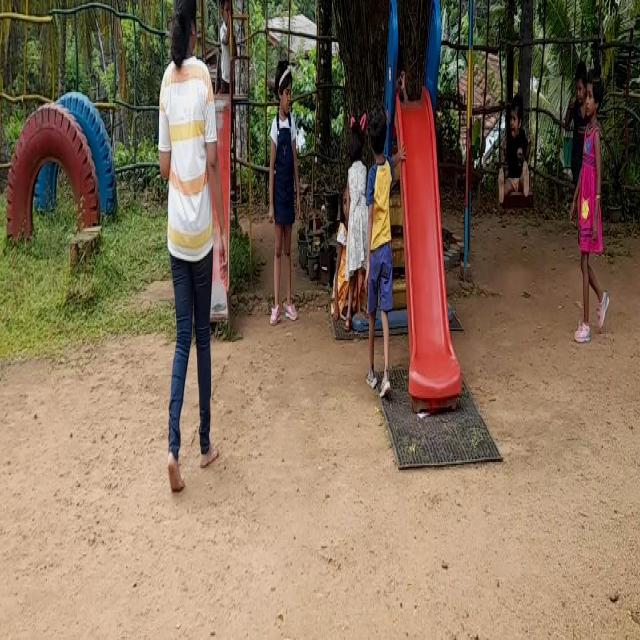adult: (149, 0, 229, 506)
child: (364, 87, 401, 411), (264, 56, 301, 334), (575, 72, 609, 351), (343, 97, 366, 326), (499, 74, 532, 215)
